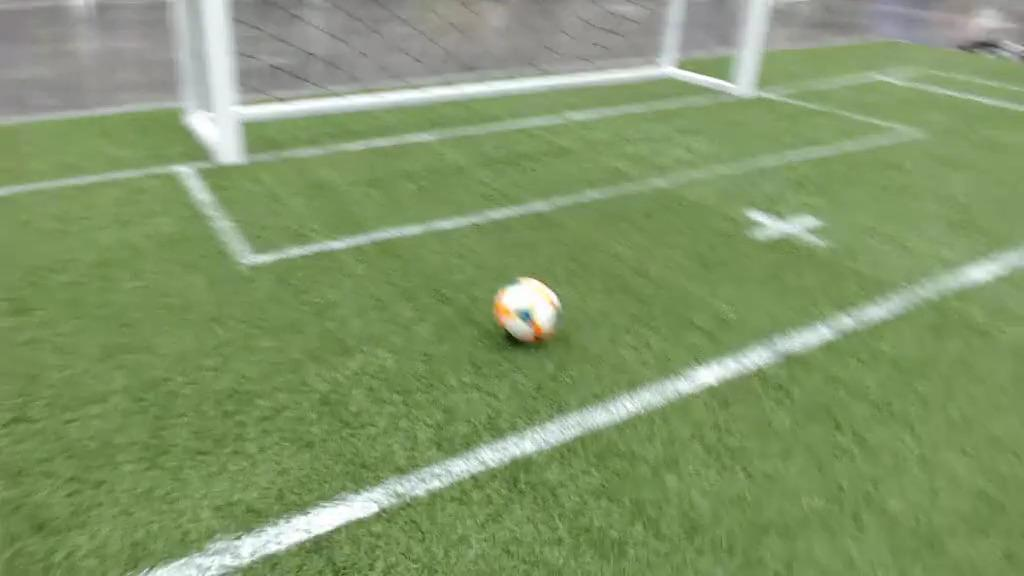ball: (495, 278, 561, 343)
